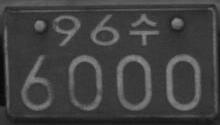0: (115, 54, 152, 111), (165, 53, 201, 111), (68, 53, 103, 112)
6: (20, 53, 53, 110), (88, 13, 120, 47)
9: (50, 14, 81, 46)
수: (129, 13, 159, 46)
